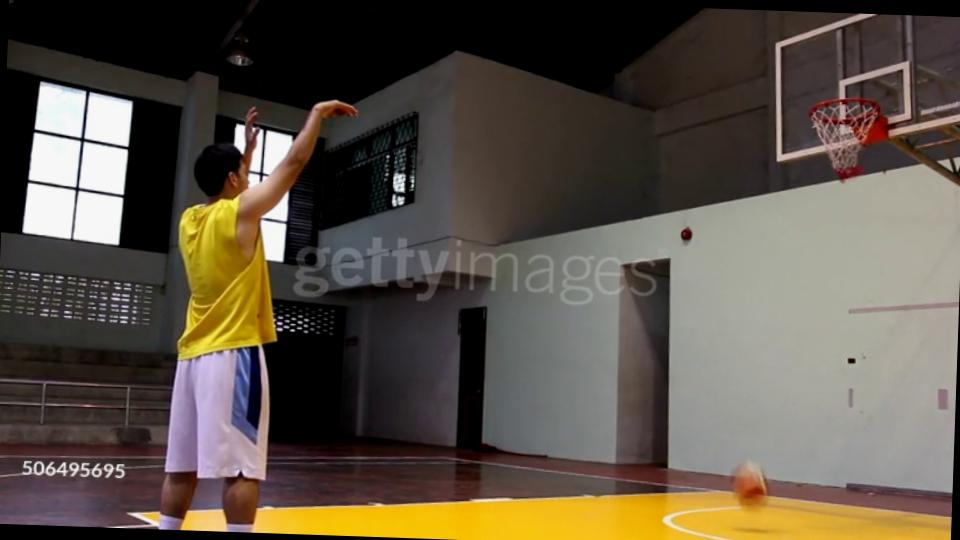hoop: (807, 92, 887, 125)
